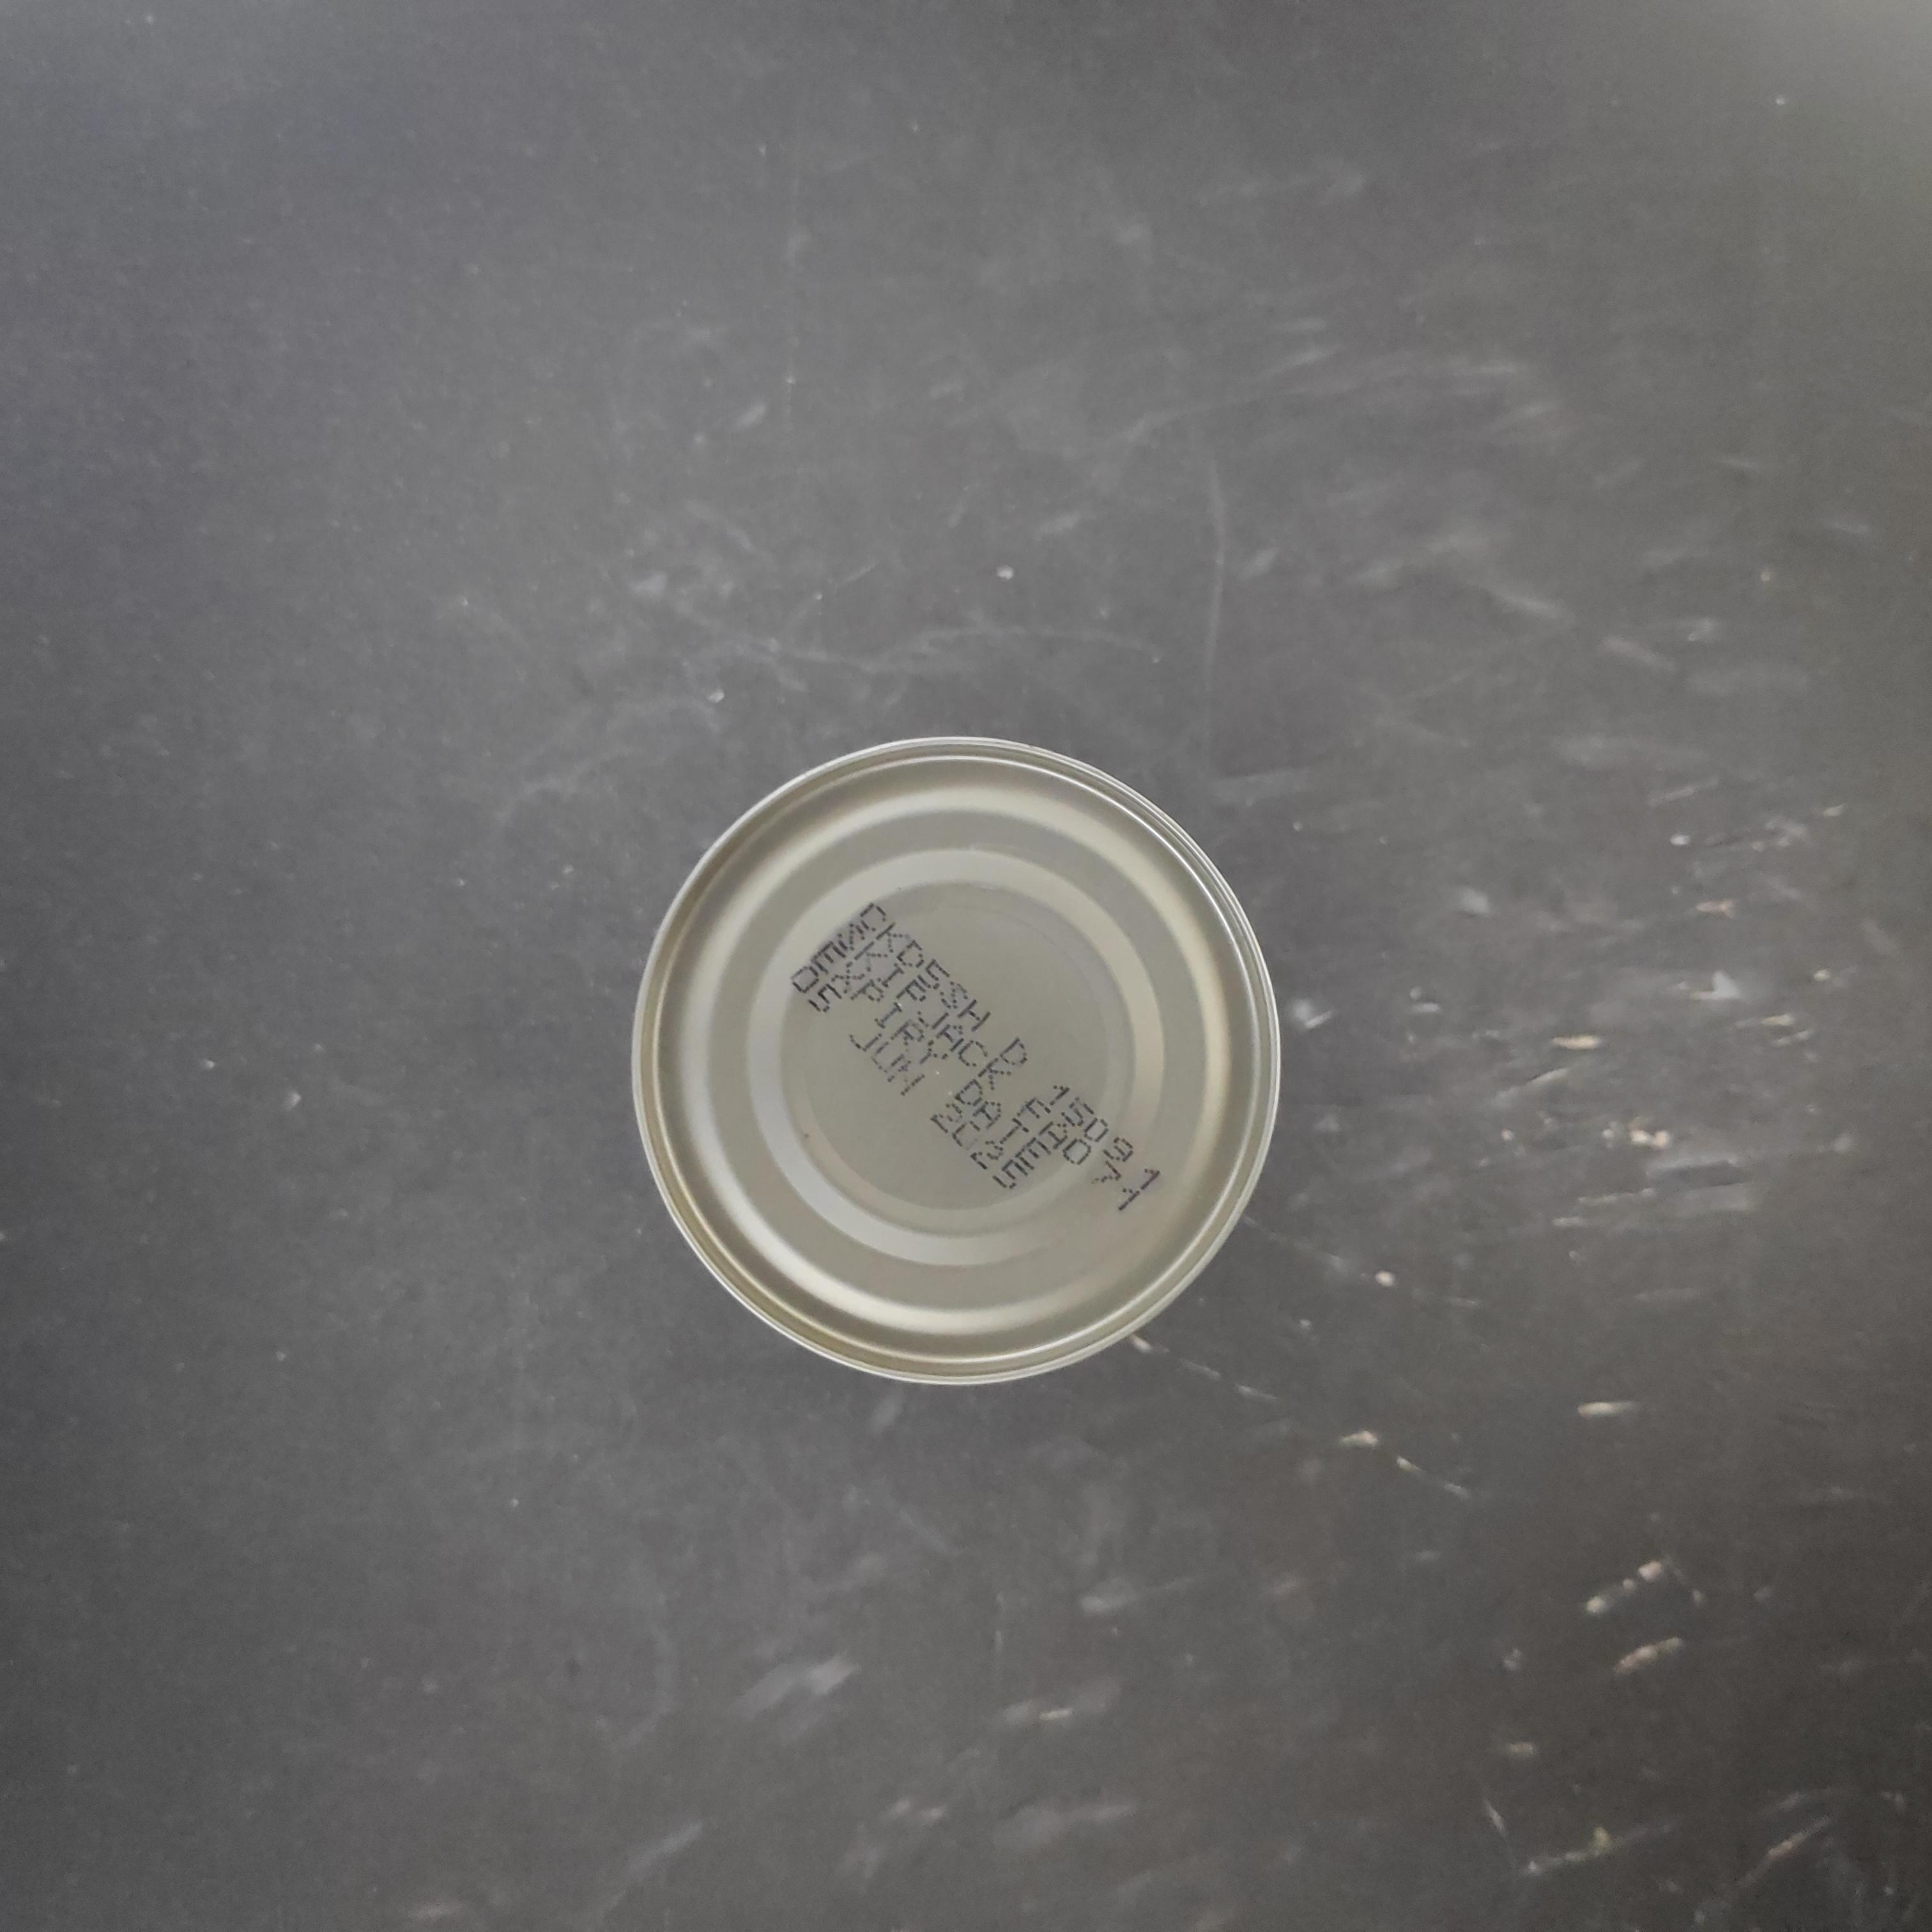No defect: (643, 537, 1318, 1218)
